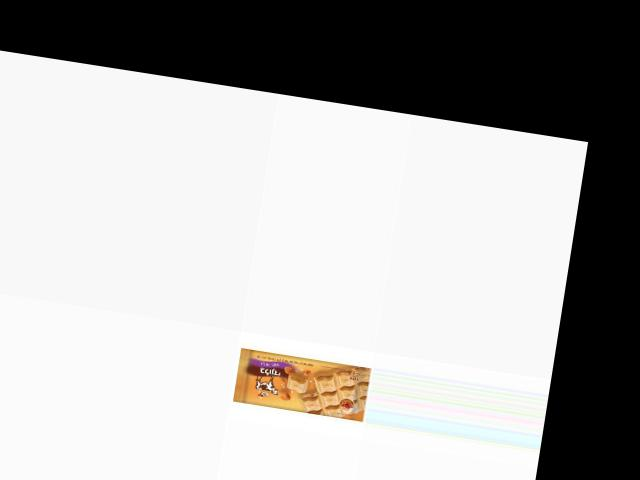chocolate: (228, 343, 372, 421)
